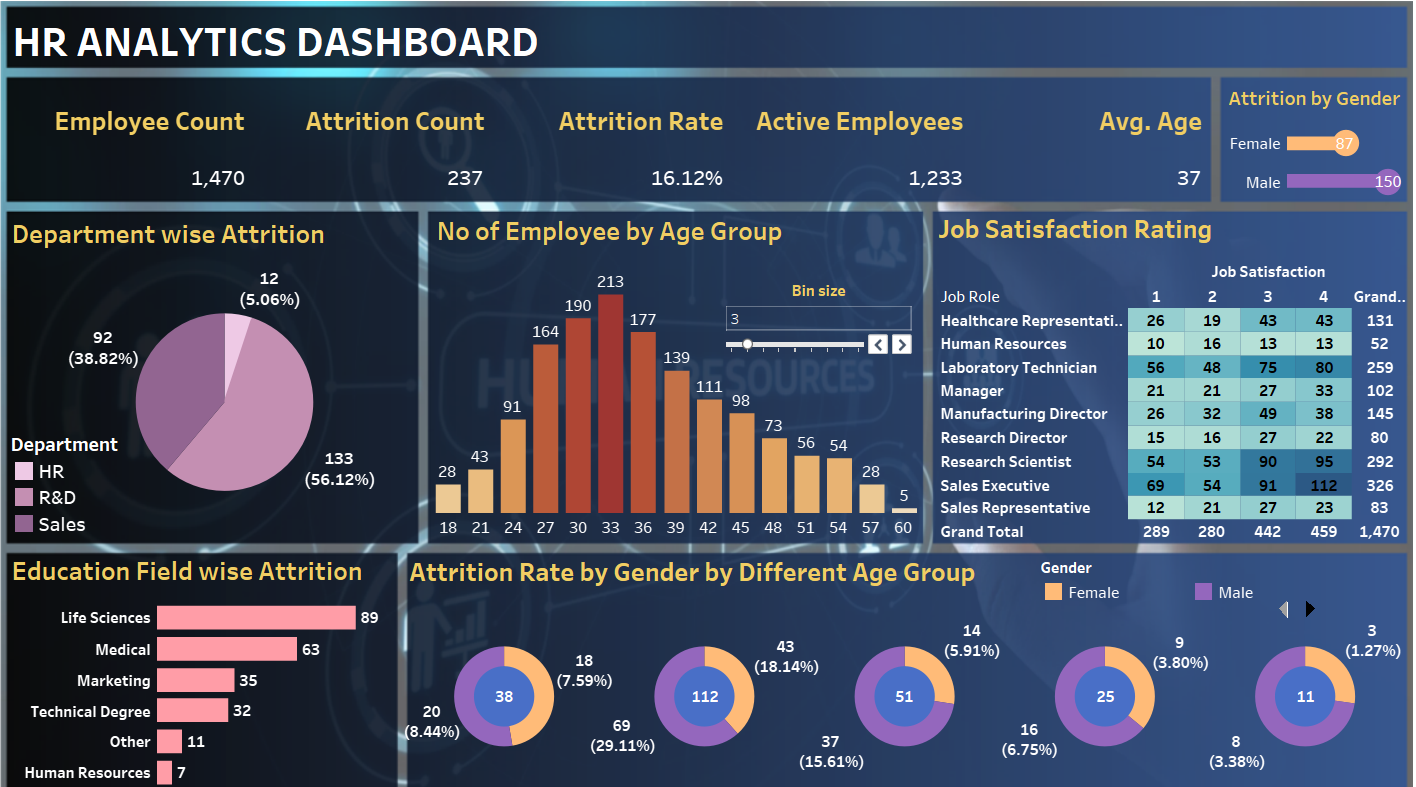

The dashboard page shown, as its layout file describes it:
{"tool":"tableau","page":{"name":"HR Analytics","canvas":[1320,660],"ordinal":0},"visuals":[{"type":"image","param":"C:/Users/harsh/OneDrive - Thadomal Shahani Engineering College/Desktop/HR Data A","box":[8,8,1304,644]},{"type":"text","box":[102,21,571,44]},{"type":"worksheet","title":"Attrition by Gender","mark":"Circle","rows":["Gender"],"cols":["Calculation_1928385101012123649","Calculation_1928385101012123649"],"box":[1072,75,148,97]},{"type":"worksheet","title":"KPI","mark":"Automatic","box":[103,77,957,93]},{"type":"worksheet","title":"Job Satisfaction Rating","mark":"Square","rows":["Job Role"],"cols":["Job Satisfaction"],"box":[841,176,380,270]},{"type":"worksheet","title":"No of Employee by Age Group","mark":"Automatic","rows":["Employee Count"],"cols":["Age (bin)"],"box":[440,178,392,265]},{"type":"worksheet","title":"Department wise Attrition","mark":"Pie","box":[100,180,348,264]},{"type":"parameter","param":"[Parameters].[Parameter 1]","box":[672,235,155,70]},{"type":"legend","title":"Department wise Attrition","param":"[federated.1wrl2p51clskm017n5p8n0n3rfy7].[none:Department:nk]","box":[103,356,105,85]},{"type":"worksheet","title":"Education Field wise Attrition","mark":"Automatic","rows":["Education Field"],"cols":["Calculation_1928385101012123649"],"box":[100,450,311,192]},{"type":"worksheet","title":"Attrition Rate by Gender by Different Age Group","mark":"Pie","rows":["Calculation_971933130395500545","Calculation_971933130395500545"],"cols":["CF_age band"],"box":[418,451,801,193]},{"type":"legend","title":"Attrition Rate by Gender by Different Age Group","param":"[federated.1wrl2p51clskm017n5p8n0n3rfy7].[none:Gender:nk]","box":[927,457,229,65]}]}

Visuals, with their boxes on the page's 1320x660 design canvas (x1, y1, x2, y2). These are canvas units, not pixel positions in the 1416x787 screenshot, which may show the page scaled, cropped or inside an application window:
image: 8/8/1312/652
text: 102/21/673/65
"Attrition by Gender" worksheet (Circle marks): 1072/75/1220/172
"KPI" worksheet: 103/77/1060/170
"Job Satisfaction Rating" worksheet (Square marks): 841/176/1221/446
"No of Employee by Age Group" worksheet: 440/178/832/443
"Department wise Attrition" worksheet (Pie marks): 100/180/448/444
parameter: 672/235/827/305
"Department wise Attrition" legend: 103/356/208/441
"Education Field wise Attrition" worksheet: 100/450/411/642
"Attrition Rate by Gender by Different Age Group" worksheet (Pie marks): 418/451/1219/644
"Attrition Rate by Gender by Different Age Group" legend: 927/457/1156/522
